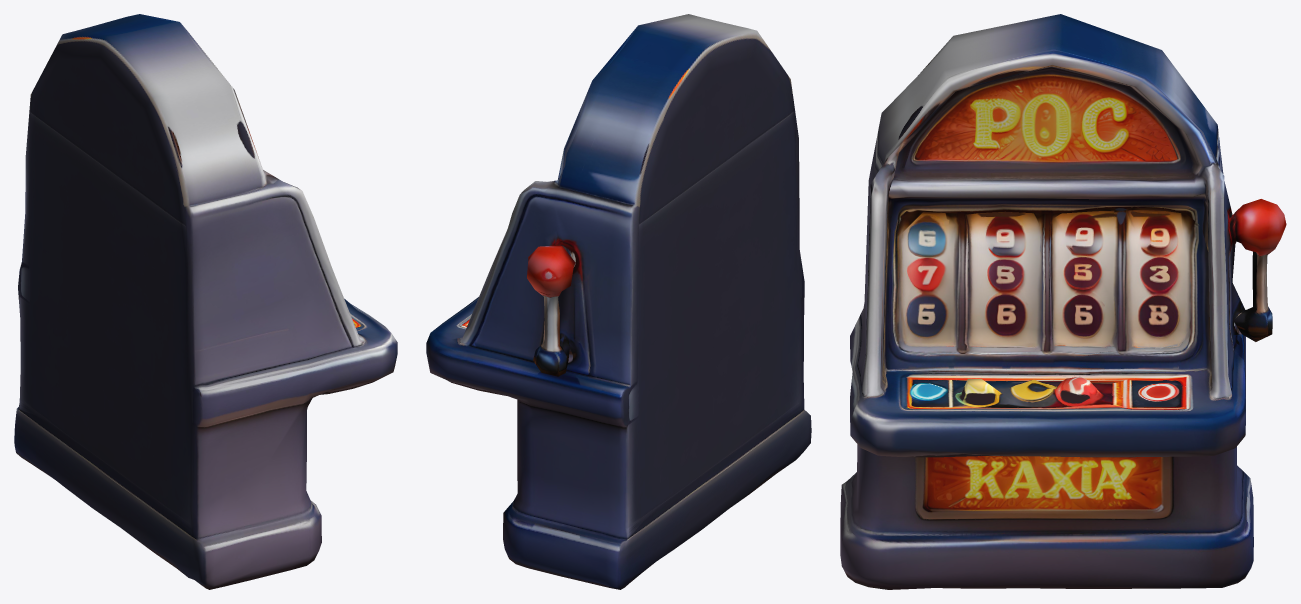
File: tragamonedas.fbx
The picture shows the model from 3 angles, left to right: view 1: azimuth 30°, elevation 25°; view 2: azimuth 150°, elevation 25°; view 3: azimuth 270°, elevation 25°; orthographic projection. The views are drawn at different scales.
Visible parts, largest first — view 1: tripo_node_7f003be9; view 2: tripo_node_7f003be9; view 3: tripo_node_7f003be9.
Part boxes in pixels (x1,y1,x2,y2): tripo_node_7f003be9: (14, 14, 397, 589); tripo_node_7f003be9: (426, 14, 811, 589); tripo_node_7f003be9: (840, 14, 1286, 589).
Size of the model in its own units: 0.4594 by 0.9996 by 0.7845.
Materials: 1 (1 with a texture image).
